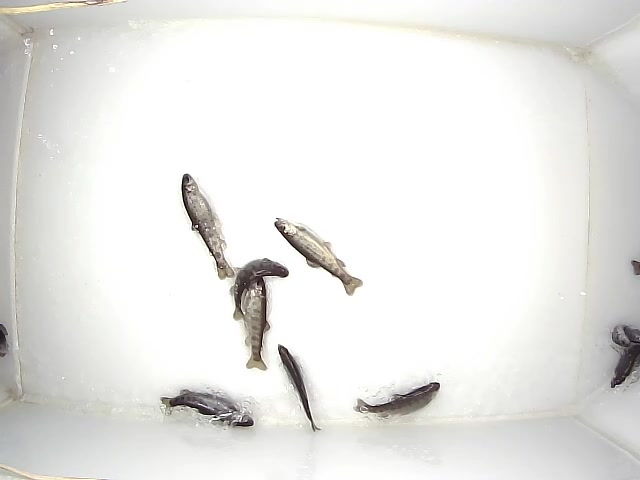fish: (274, 217, 363, 296), (182, 173, 235, 280), (278, 344, 322, 432), (230, 258, 289, 321), (160, 389, 254, 427), (353, 382, 440, 417), (245, 273, 270, 371), (611, 344, 640, 388), (610, 325, 631, 347), (626, 327, 640, 343)
